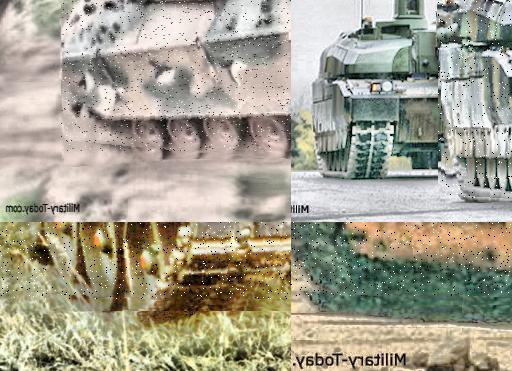tanks: (62, 1, 292, 152), (312, 1, 465, 180), (16, 223, 292, 300), (292, 223, 512, 297), (439, 1, 512, 199)
